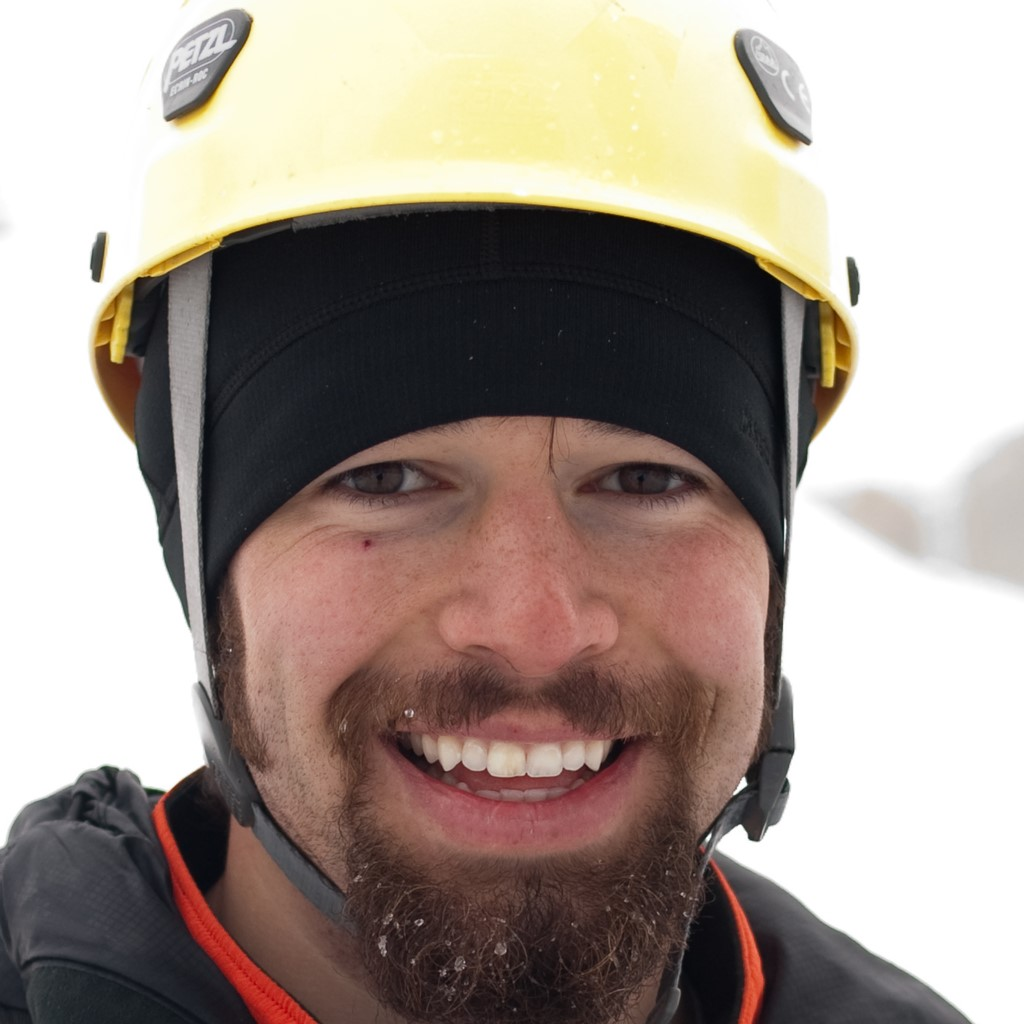sin_mascara: (169, 175, 793, 1024)
